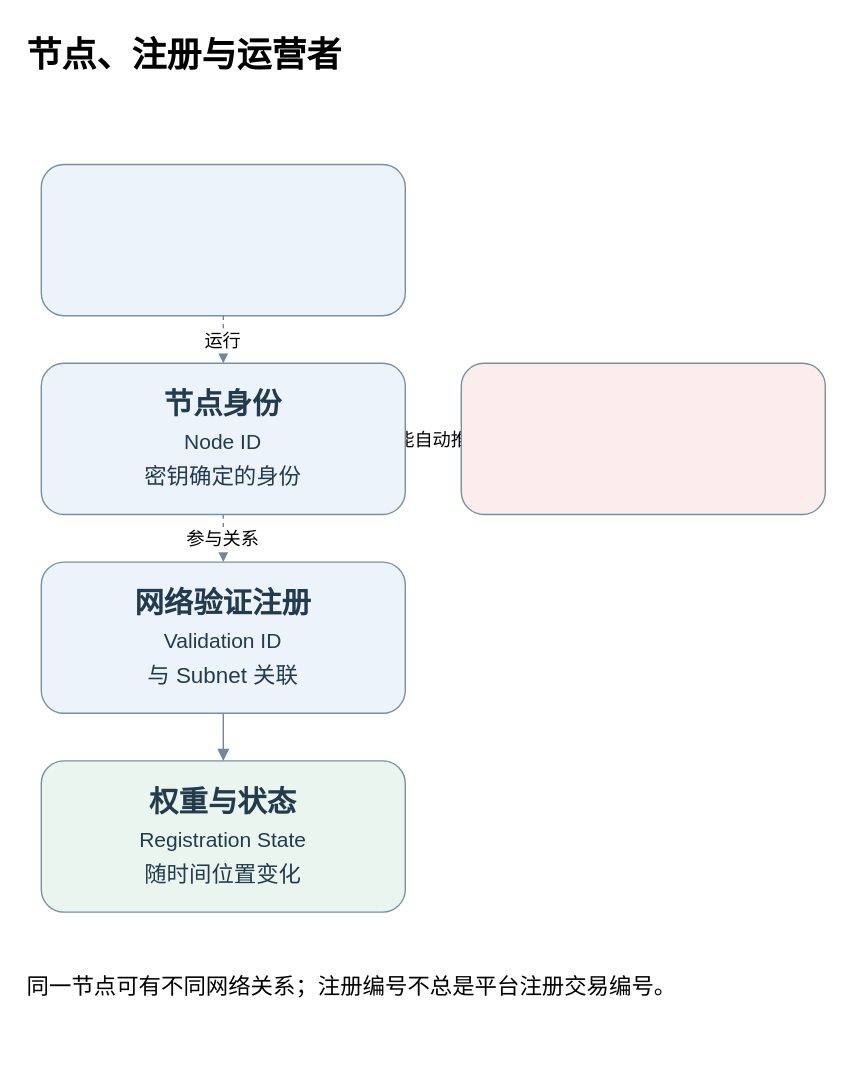
The diagram is 865 pixels wide and 1085 high, and some of its shapes have lost their labels. The centre of each missing label's shape, as x and y in pixels:
"服务器设施 Infrastructure 链外资产与运行" goes at (222,239).
"运营者归因 Operator Attribution 需要独立证据" goes at (642,438).
